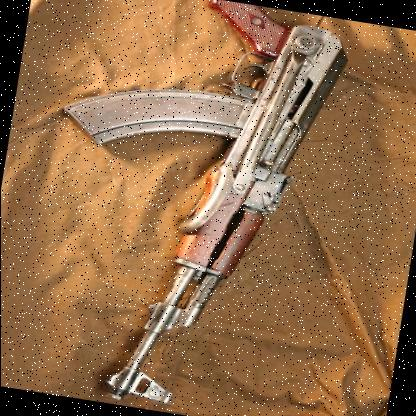rifle: (2, 0, 374, 416)
